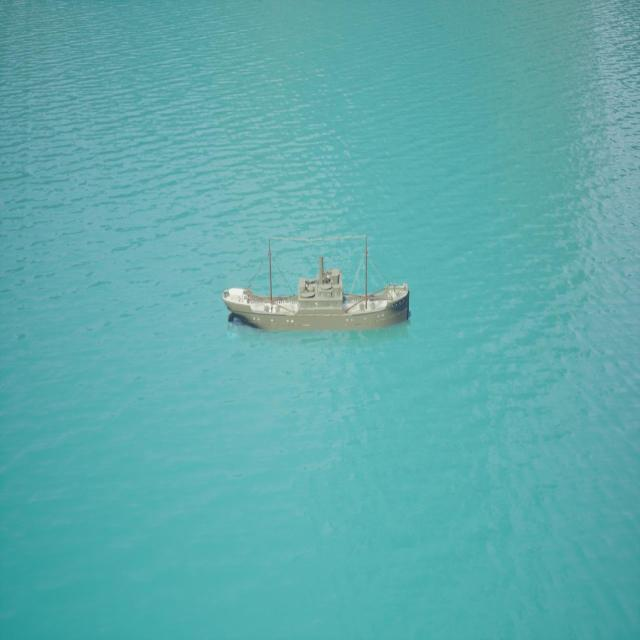fishing ship: (225, 237, 413, 337)
